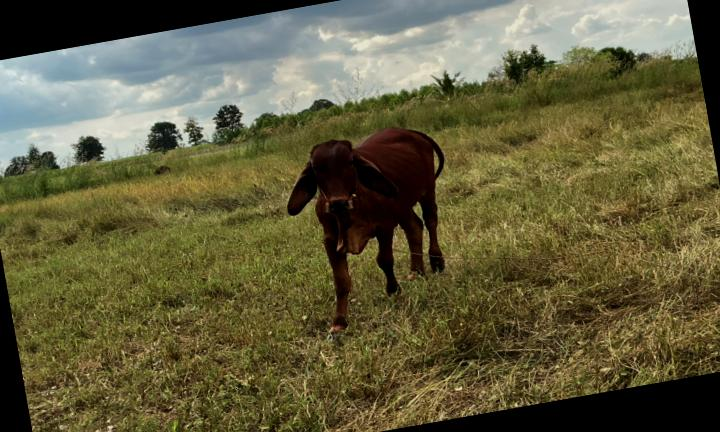Brahman: (287, 127, 445, 333)
